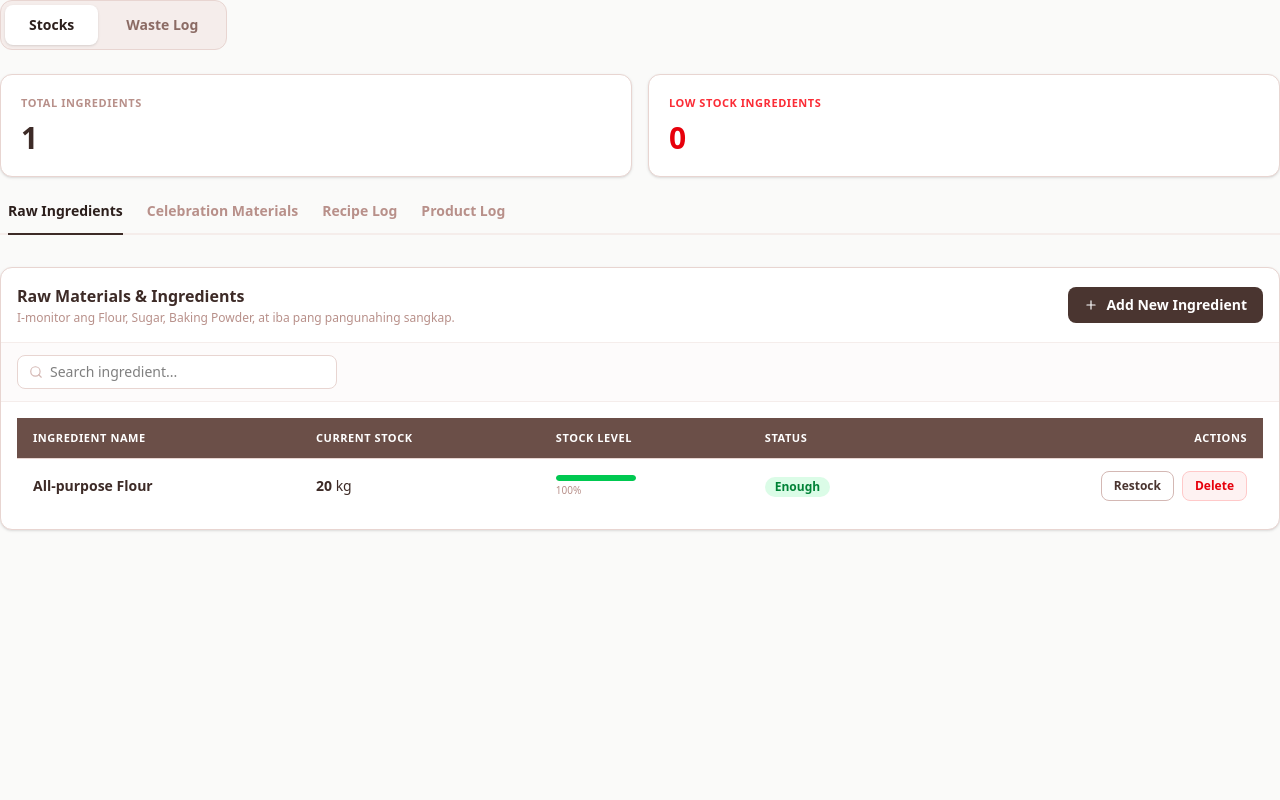
Scenario: InventoryPage Inter-Component Integration (Real Child Tabs) › Celebration Materials sub-tab › should render the real CelebrationTab with material data and filter via search
The image size is (1280, 800).
Click the button "Celebration Materials" at (222, 218), box [147,200,298,234]
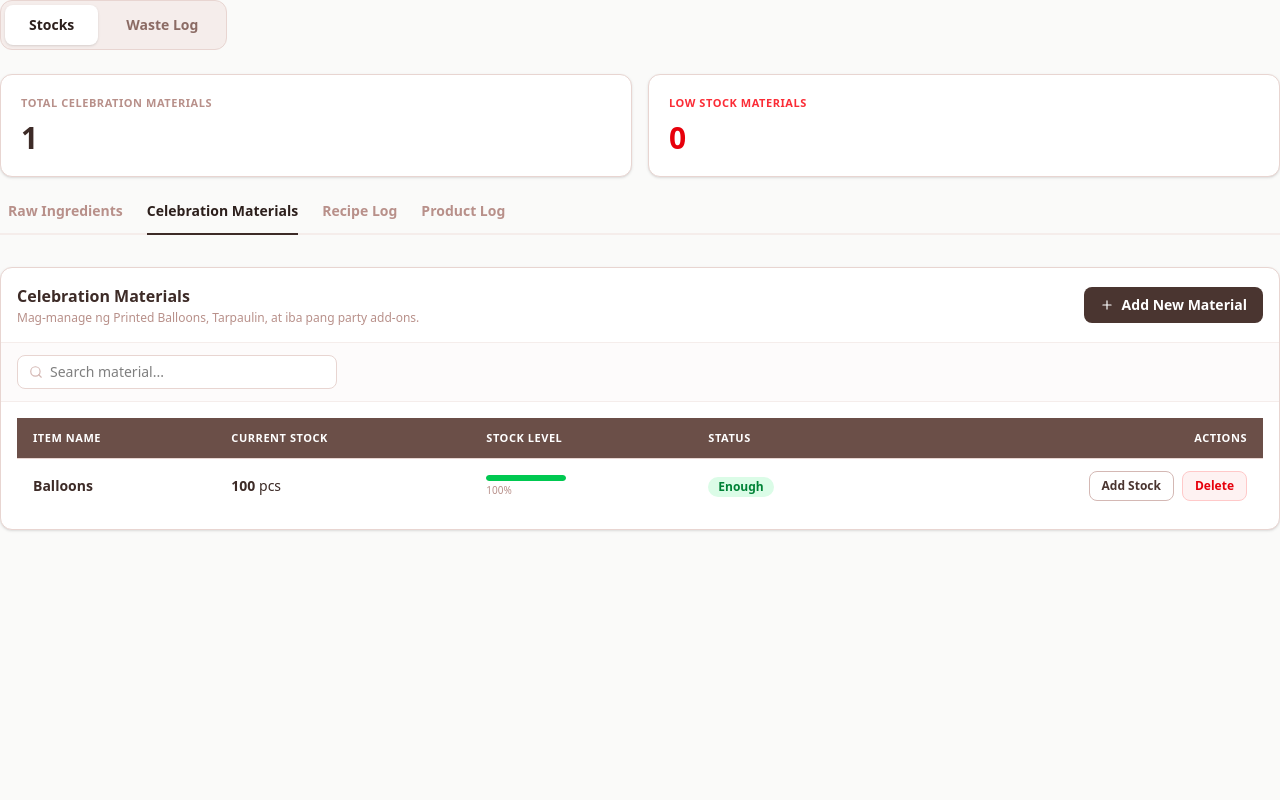
Type "Confetti" into the field with placeholder "Search material..." at (177, 372), box [17,354,337,388]
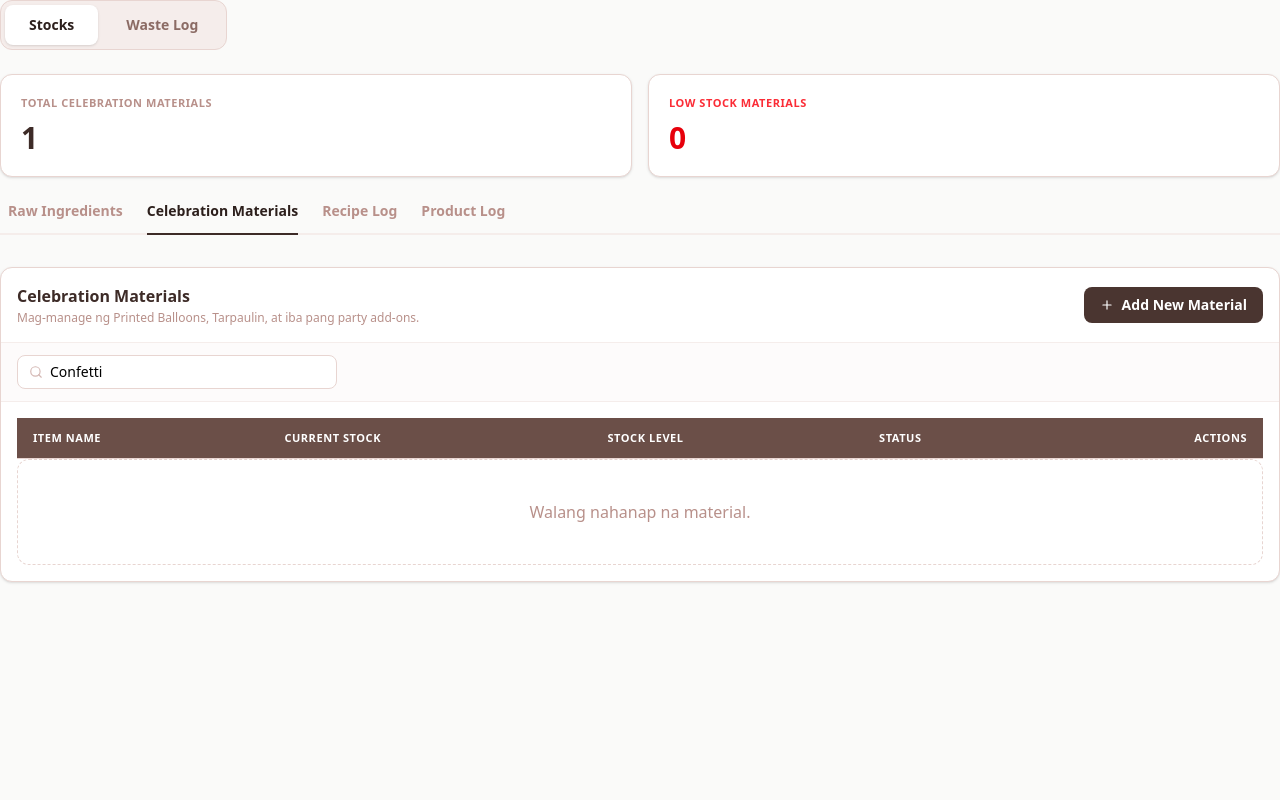
Expected: the text "Walang nahanap na material." is shown, [17,459,1263,565]
